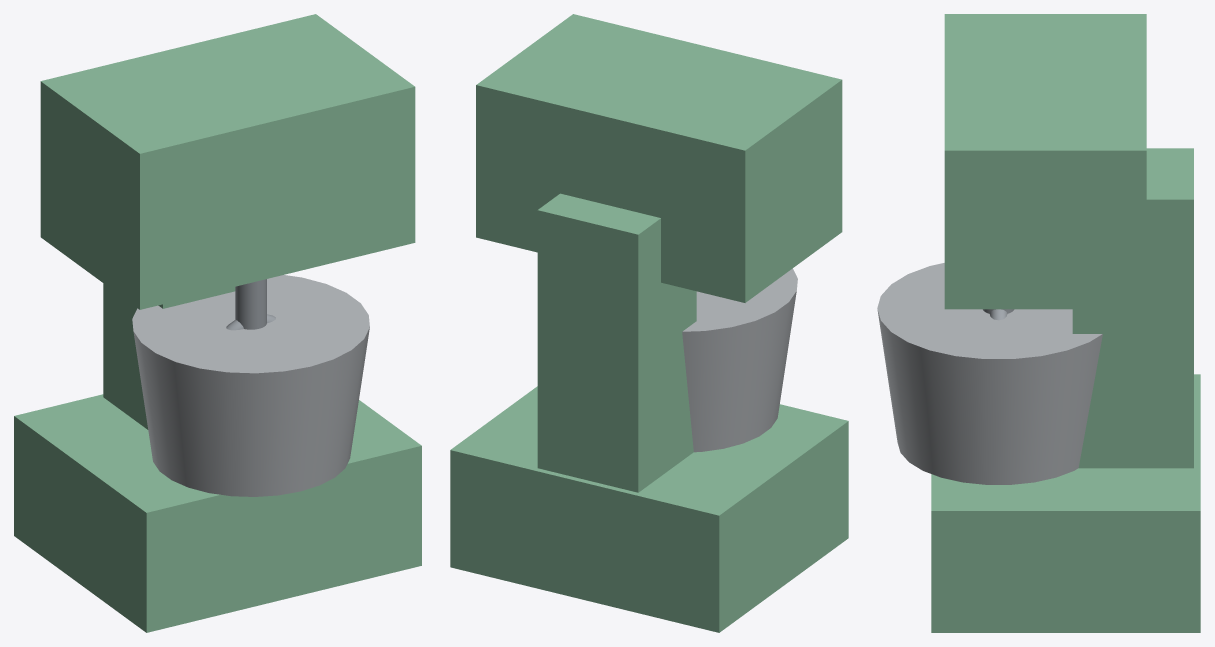
Rendered from home_eq_stand_mixer.glb.
The picture shows the model from 3 angles, left to right: view 1: azimuth 30°, elevation 25°; view 2: azimuth 150°, elevation 25°; view 3: azimuth 270°, elevation 25°; orthographic projection. The views are drawn at different scales.
Size of the model in its own units: 0.24 by 0.395 by 0.24.
